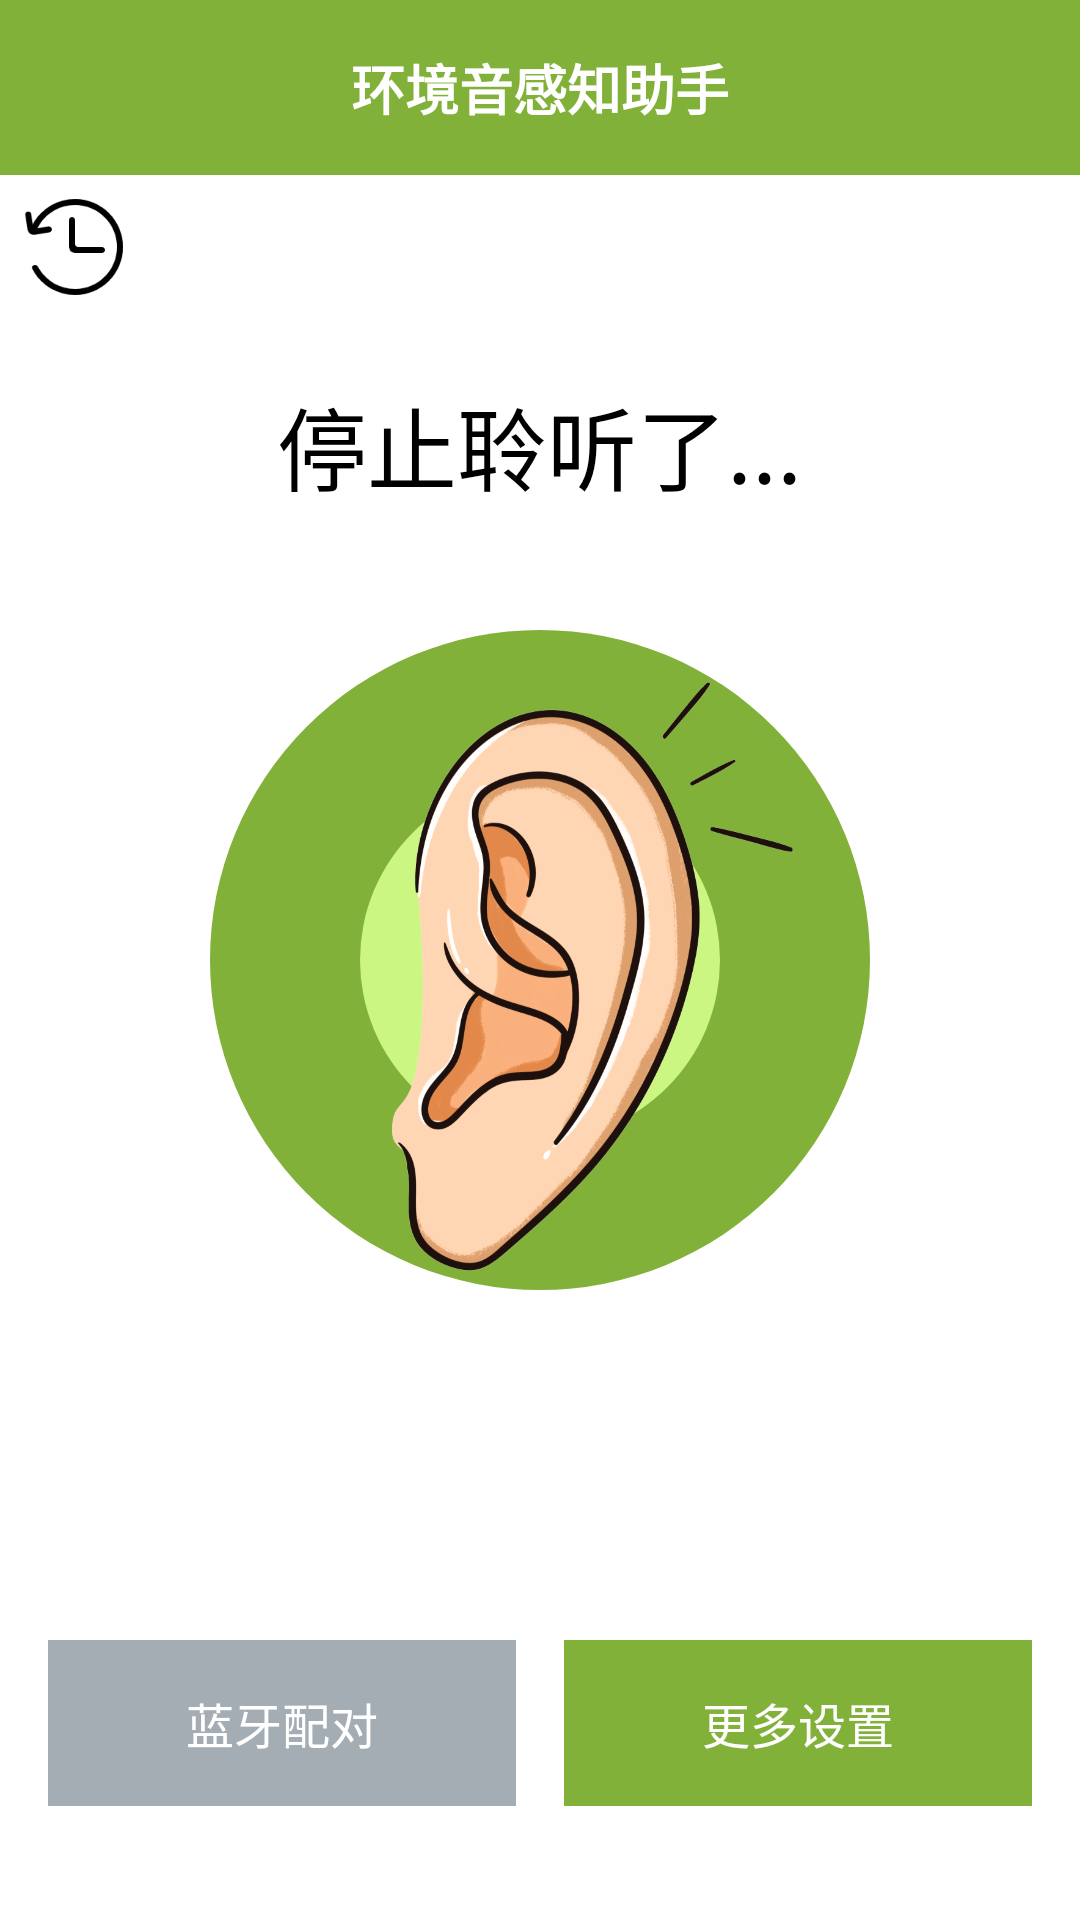

Screen size 1080px×1920px. Icon name, then its box in pixels as (x1, y1, x2, y2):
history: (25, 199, 123, 295)
